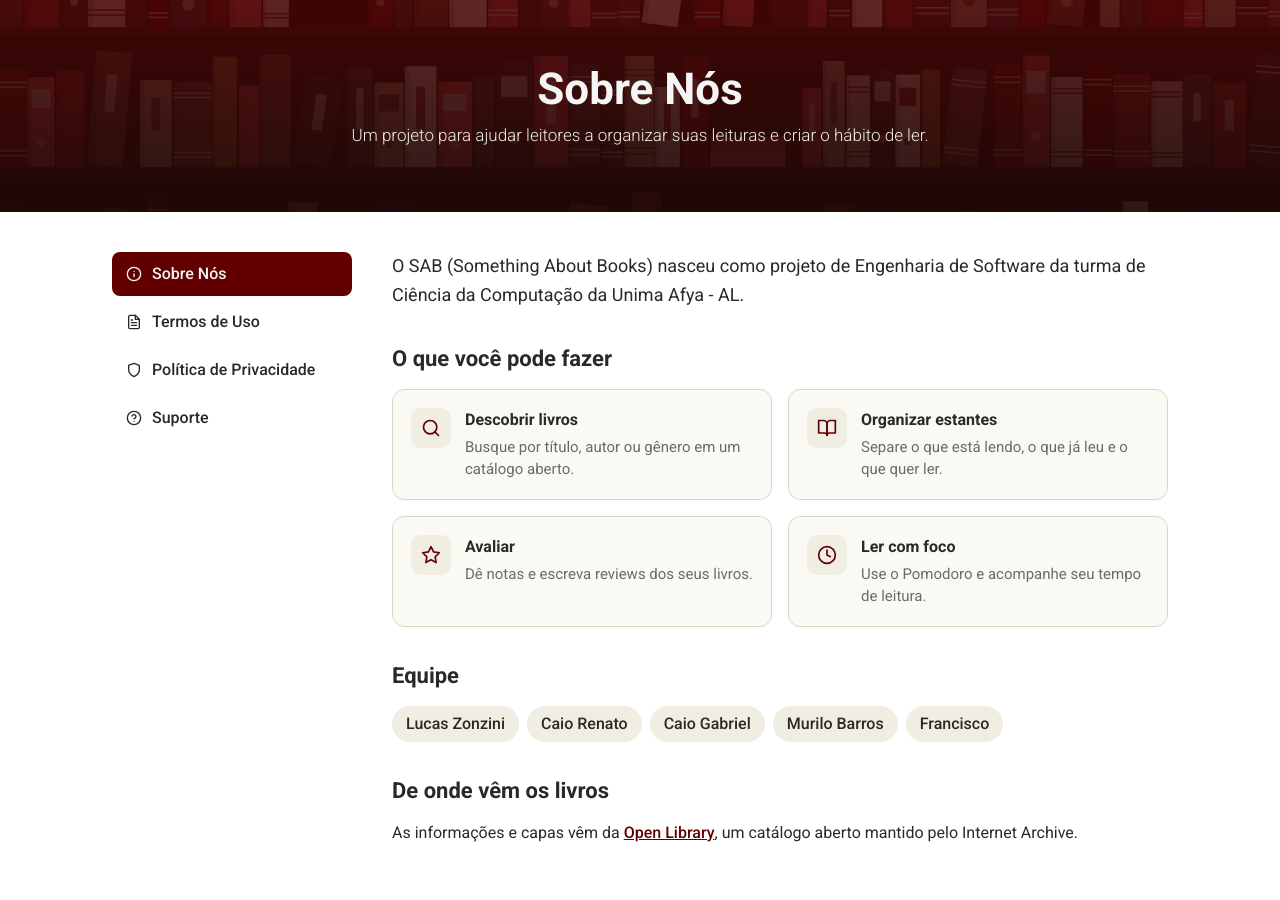
Scenario: Info › navega entre as páginas pelo menu lateral
What coordinates should you click on to do the following:
click the link "Termos de Uso"
I would click on:
 (193, 322)
Its box is [126,312,260,331].
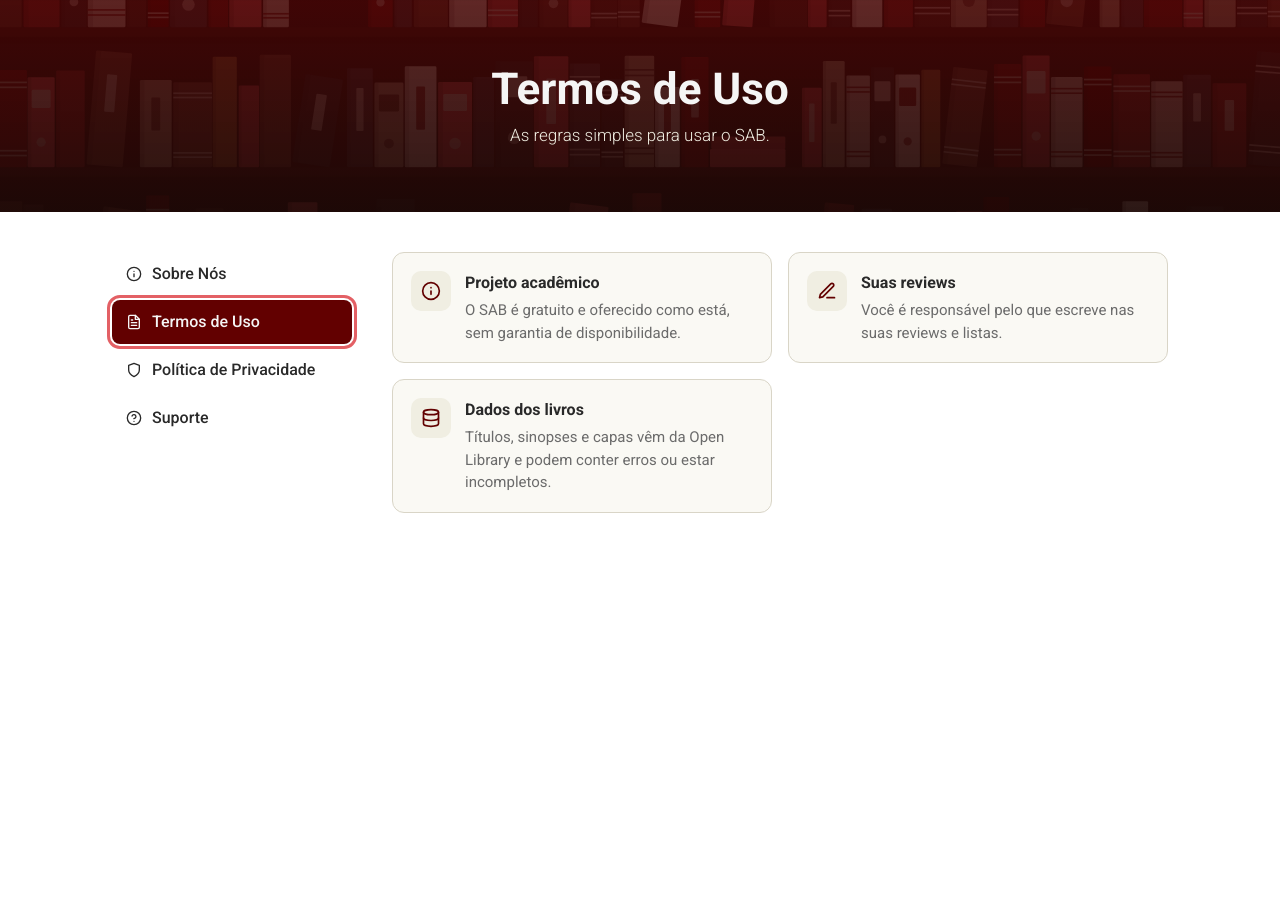
Result: the heading "Termos de Uso" is shown at [491,63,789,115]
